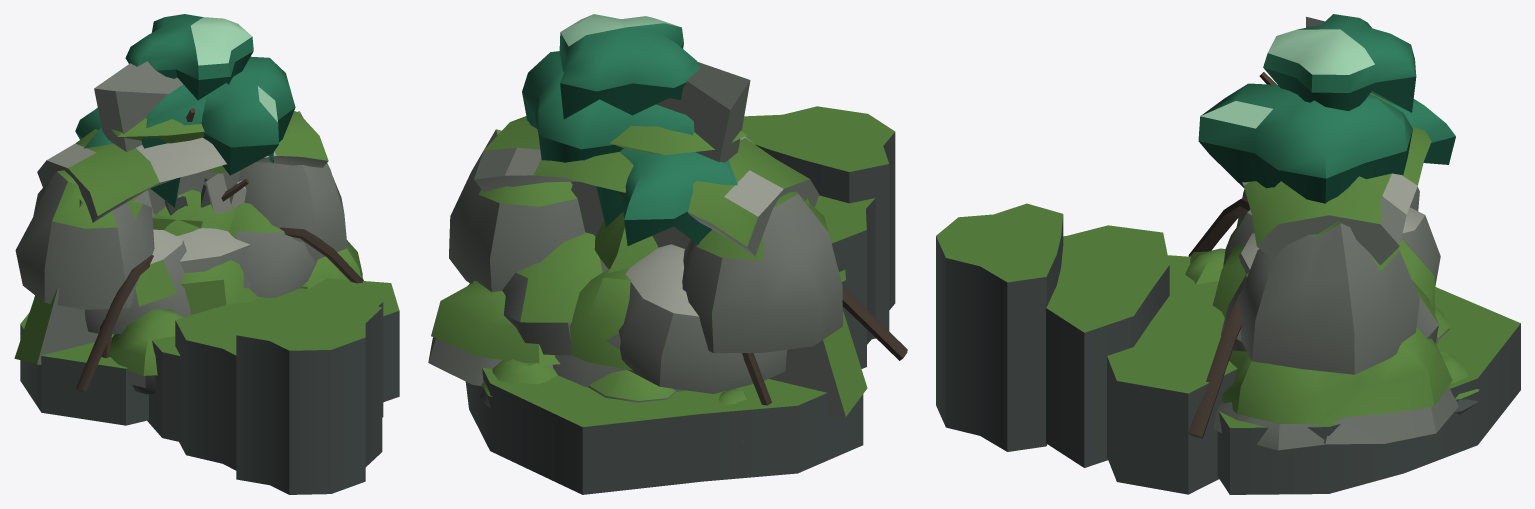
Rendered from JadeGrove_Rocks.fbx.
3 views of the same model, side by side, from view 1: azimuth 30°, elevation 25°; view 2: azimuth 150°, elevation 25°; view 3: azimuth 270°, elevation 25° (orthographic). The views are drawn at different scales.
Visible parts, largest first — view 1: JG_Rock_TerraceStep_T1__RockDark, JG_Rock_Arch_A1__Rock, JG_Rock_SplitStone_S1__LeafMid, JG_Rock_TerraceStep_T1__Moss, JG_Rock_Arch_A1__Moss, JG_Rock_LeaningSlab_L1__Rock, JG_Rock_MossBoulders_B1__Moss, JG_Rock_SplitStone_S1__Rock, JG_Rock_SplitStone_S1__LeafDeep, JG_Rock_Arch_A1__RockPale, JG_Rock_SplitStone_S1__Root, JG_Rock_SplitStone_S1__LeafPale (+7 smaller); view 2: JG_Rock_TerraceStep_T1__RockDark, JG_Rock_Arch_A1__Rock, JG_Rock_SplitStone_S1__LeafMid, JG_Rock_TerraceStep_T1__Moss, JG_Rock_Arch_A1__Moss, JG_Rock_SplitStone_S1__Rock, JG_Rock_LeaningSlab_L1__Rock, JG_Rock_MossBoulders_B2__Moss, JG_Rock_SplitStone_S1__LeafDeep, JG_Rock_MossBoulders_B1__Moss, JG_Rock_SplitStone_S1__Moss, JG_Rock_LeaningSlab_L1__Moss (+6 smaller); view 3: JG_Rock_TerraceStep_T1__RockDark, JG_Rock_TerraceStep_T1__Moss, JG_Rock_Arch_A1__Rock, JG_Rock_SplitStone_S1__LeafMid, JG_Rock_MossBoulders_B1__Moss, JG_Rock_SplitStone_S1__LeafDeep, JG_Rock_Arch_A1__Moss, JG_Rock_MossBoulders_B2__Moss, JG_Rock_SplitStone_S1__LeafPale, JG_Rock_MossBoulders_B2__Rock, JG_Rock_SplitStone_S1__Root, JG_Rock_SplitStone_S1__Rock (+2 smaller).
Boxes of the visible parts, x1,y1,x2,y2 form: JG_Rock_TerraceStep_T1__RockDark: (20, 302, 399, 494); JG_Rock_Arch_A1__Rock: (15, 112, 347, 309); JG_Rock_SplitStone_S1__LeafMid: (75, 14, 295, 148); JG_Rock_TerraceStep_T1__Moss: (20, 278, 399, 368); JG_Rock_Arch_A1__Moss: (52, 111, 328, 228); JG_Rock_LeaningSlab_L1__Rock: (37, 61, 240, 364); JG_Rock_MossBoulders_B1__Moss: (110, 240, 362, 375); JG_Rock_SplitStone_S1__Rock: (85, 231, 317, 334); JG_Rock_SplitStone_S1__LeafDeep: (76, 51, 295, 207); JG_Rock_Arch_A1__RockPale: (47, 137, 276, 182); JG_Rock_SplitStone_S1__Root: (75, 227, 363, 392); JG_Rock_SplitStone_S1__LeafPale: (191, 17, 277, 121); JG_Rock_TerraceStep_T1__RockDark: (465, 132, 895, 494); JG_Rock_Arch_A1__Rock: (449, 130, 842, 353); JG_Rock_SplitStone_S1__LeafMid: (522, 23, 737, 220); JG_Rock_TerraceStep_T1__Moss: (482, 106, 894, 426); JG_Rock_Arch_A1__Moss: (478, 116, 828, 260); JG_Rock_SplitStone_S1__Rock: (502, 272, 786, 393); JG_Rock_LeaningSlab_L1__Rock: (571, 62, 845, 416); JG_Rock_MossBoulders_B2__Moss: (431, 212, 658, 365); JG_Rock_SplitStone_S1__LeafDeep: (522, 43, 711, 245); JG_Rock_MossBoulders_B1__Moss: (468, 269, 747, 404); JG_Rock_SplitStone_S1__Moss: (516, 232, 602, 322); JG_Rock_LeaningSlab_L1__Moss: (589, 199, 867, 416); JG_Rock_TerraceStep_T1__RockDark: (936, 215, 1520, 494); JG_Rock_TerraceStep_T1__Moss: (936, 203, 1520, 427); JG_Rock_Arch_A1__Rock: (1236, 187, 1419, 374); JG_Rock_SplitStone_S1__LeafMid: (1198, 14, 1455, 178); JG_Rock_MossBoulders_B1__Moss: (1185, 238, 1479, 424); JG_Rock_SplitStone_S1__LeafDeep: (1199, 67, 1455, 203); JG_Rock_Arch_A1__Moss: (1244, 93, 1431, 271); JG_Rock_MossBoulders_B2__Moss: (1324, 326, 1452, 417); JG_Rock_SplitStone_S1__LeafPale: (1200, 29, 1374, 128); JG_Rock_MossBoulders_B2__Rock: (1323, 386, 1458, 444); JG_Rock_SplitStone_S1__Root: (1188, 197, 1249, 438); JG_Rock_SplitStone_S1__Rock: (1220, 212, 1440, 351).
Bounding box in the file's own units: 15.88 × 15.31 × 20.6.
